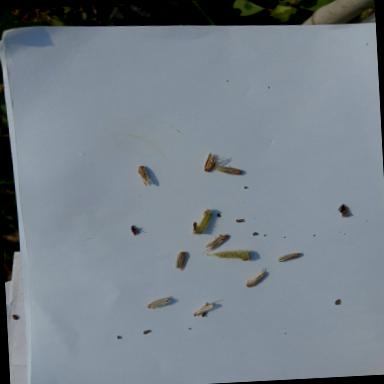pbw: (214, 162, 246, 176), (204, 233, 228, 251), (199, 152, 220, 172), (191, 299, 213, 318), (146, 295, 172, 310), (243, 268, 262, 288), (275, 250, 301, 264), (136, 164, 148, 186), (174, 249, 187, 268)
